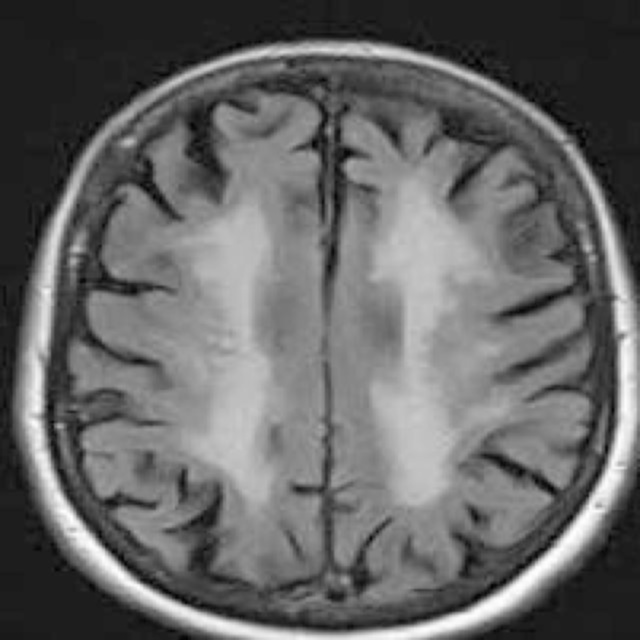glioma tumor: (124, 97, 541, 579)
